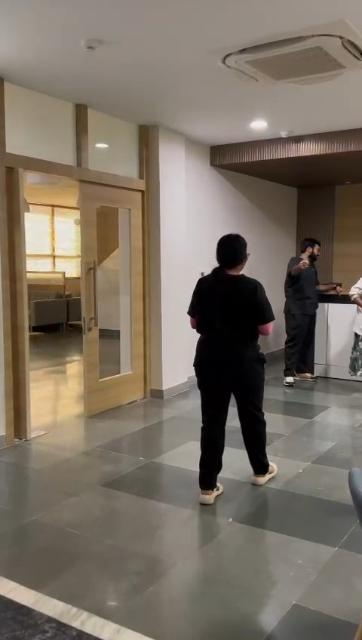door: (76, 178, 154, 410)
floor: (0, 391, 362, 640)
moving-obj: (202, 226, 286, 498), (290, 244, 322, 386)
object: (29, 280, 76, 330)
wall: (166, 130, 203, 278), (212, 178, 296, 236)
